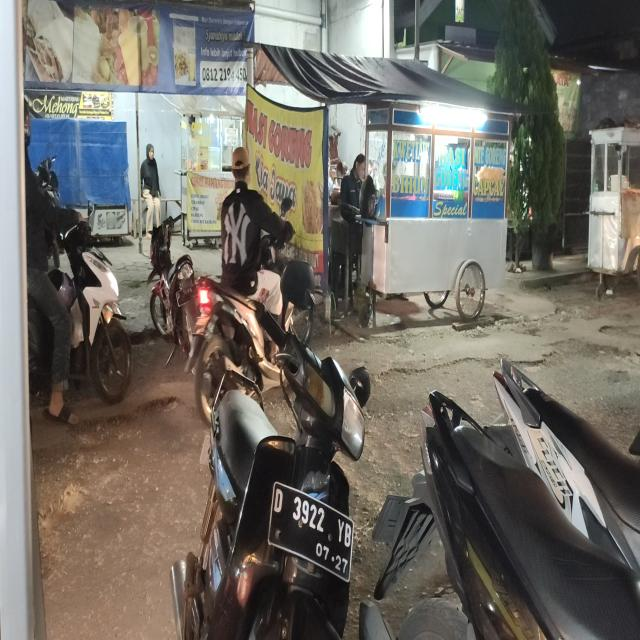no-helmet: (231, 145, 251, 187)
